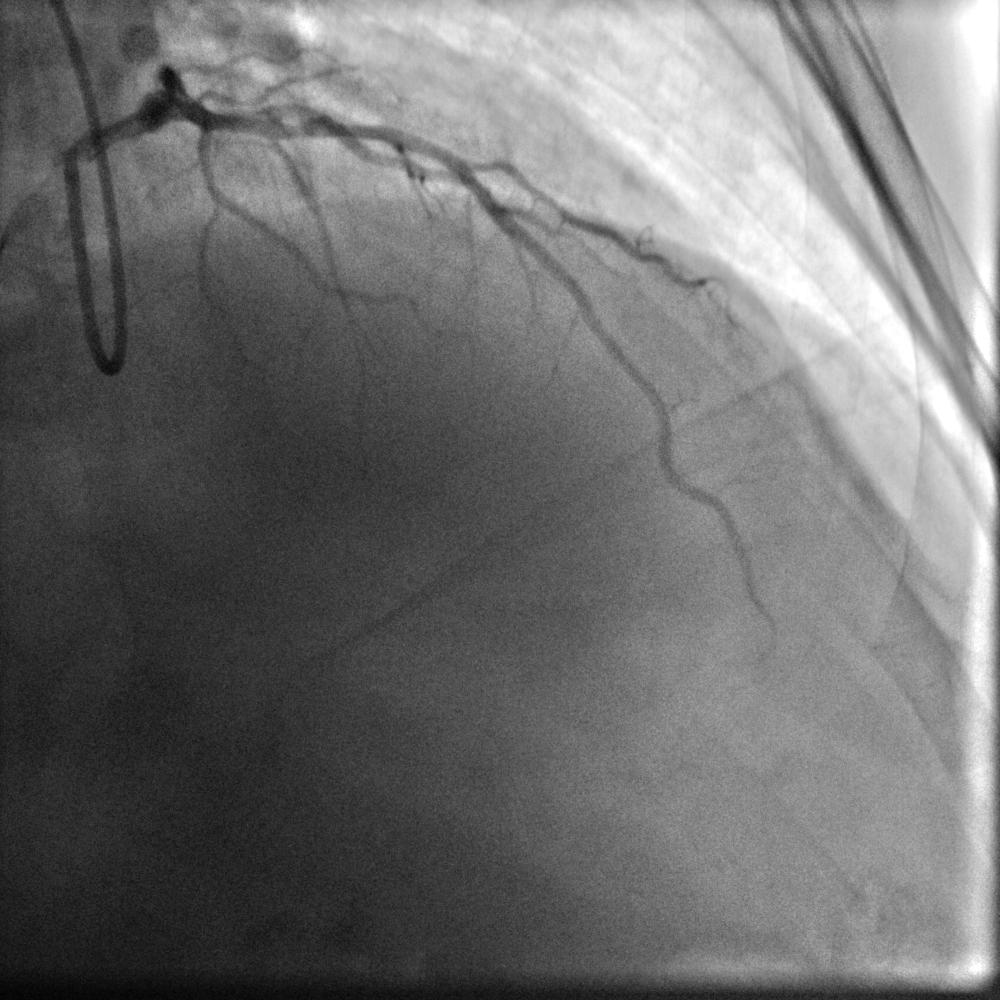Stenosis: (289, 120, 312, 141)
